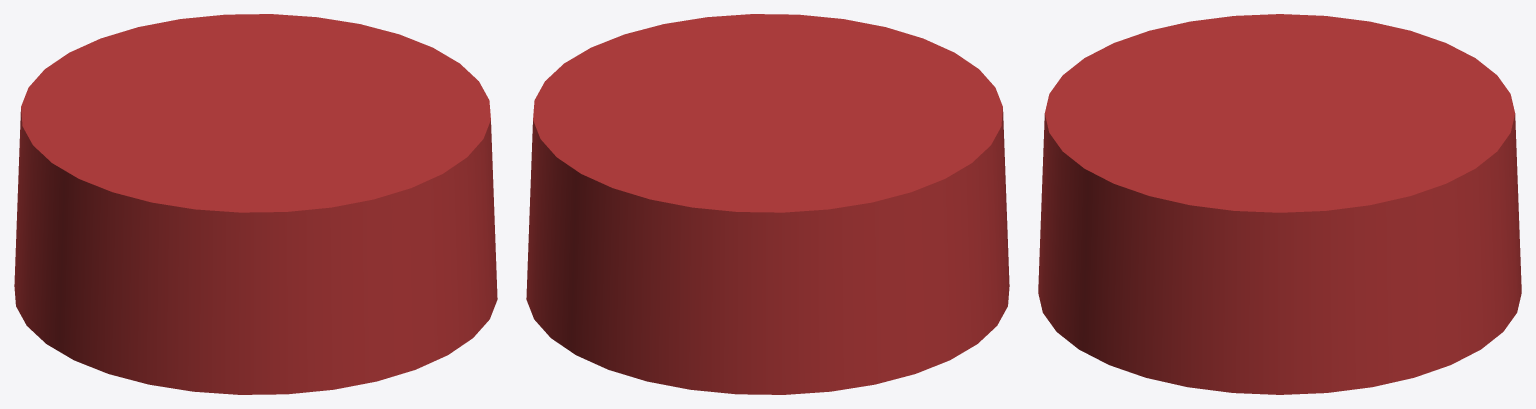
The model's file is bottle_cap.glb.
3 renders of one model, left to right at view 1: azimuth 30°, elevation 25°; view 2: azimuth 150°, elevation 25°; view 3: azimuth 270°, elevation 25°, orthographic.
Parts seen in each view (by area): view 1: bottle_cap; view 2: bottle_cap; view 3: bottle_cap.
Part boxes in pixels (box(x1,y1,x2,y2)): bottle_cap: box(14, 14, 497, 394); bottle_cap: box(526, 14, 1009, 394); bottle_cap: box(1038, 14, 1521, 394).
Size of the model in its own units: 1.57 by 0.6445 by 1.57.
